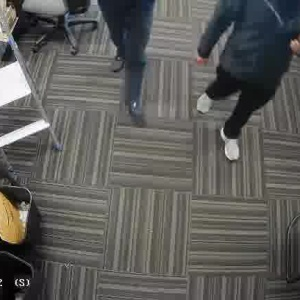person: (189, 0, 295, 158), (95, 2, 161, 125)
